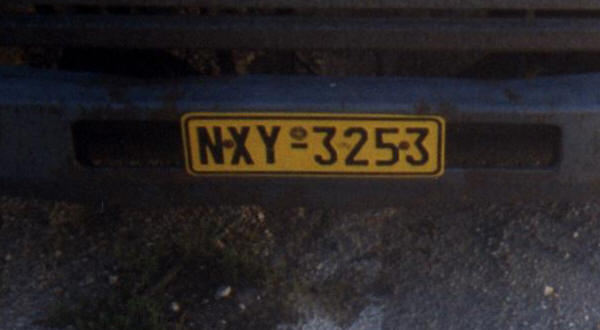license_plate: (180, 112, 445, 179)
